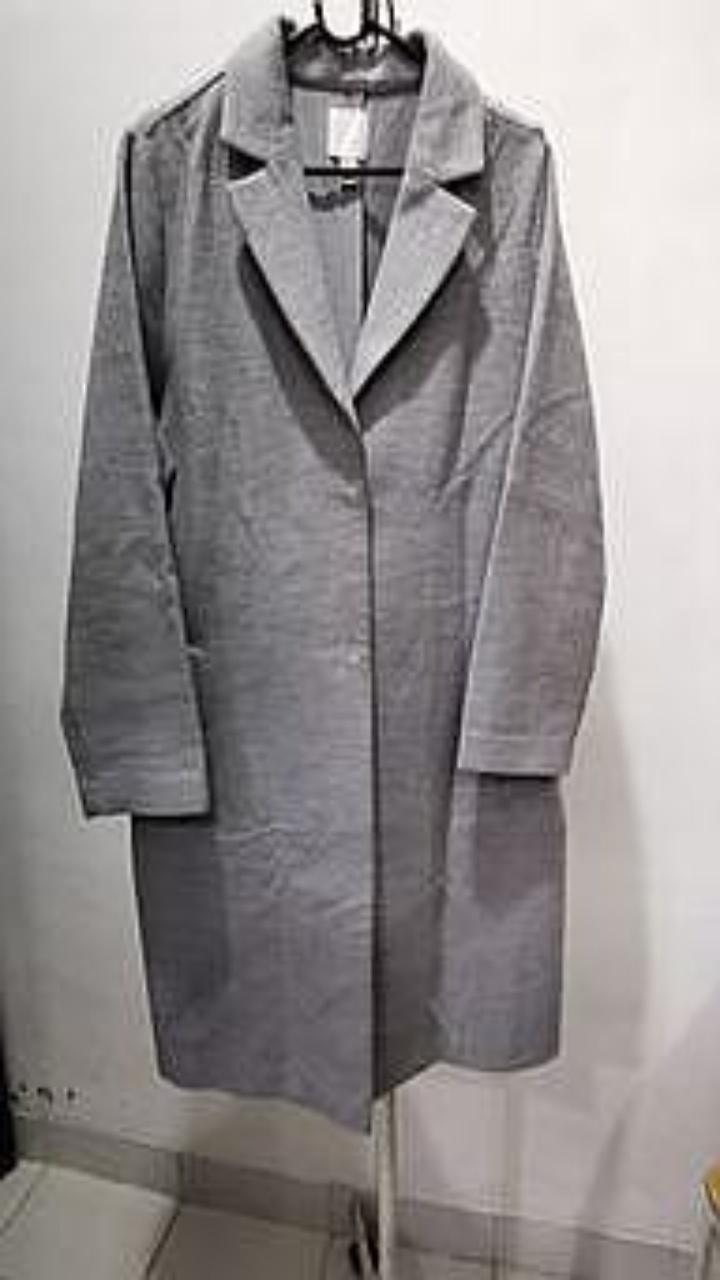Coat: (61, 14, 604, 1131)
